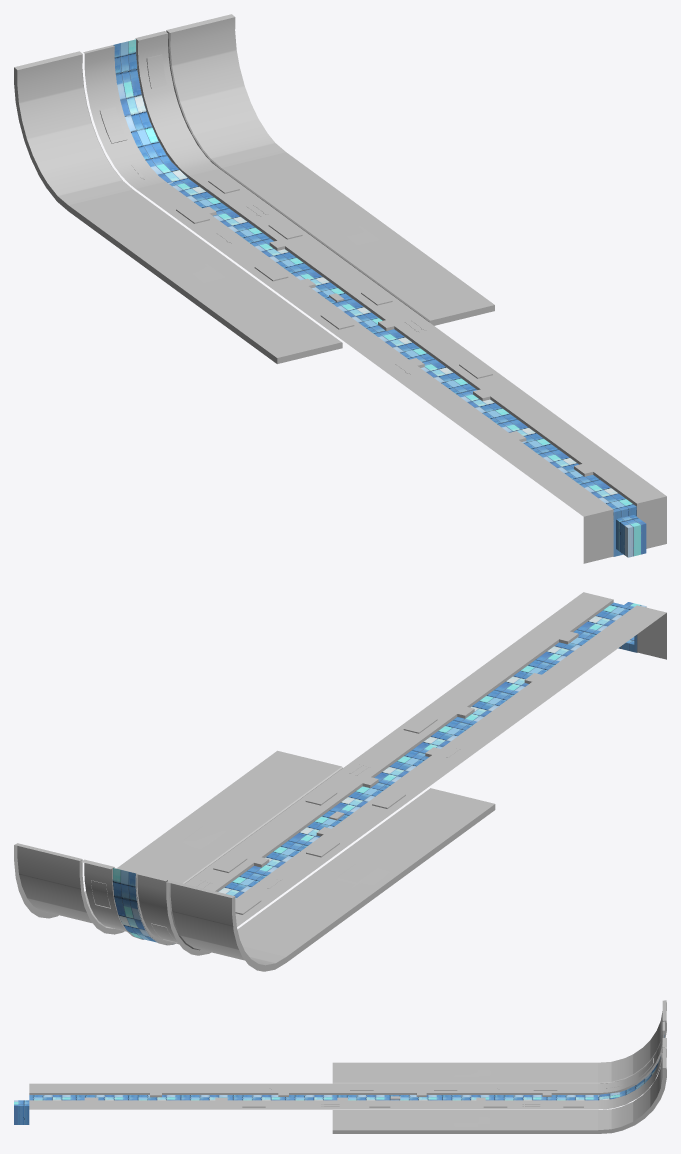
The model's file is Ramp_Building_New.fbx.
3 renders of one model, top to bottom at view 1: azimuth 30°, elevation 25°; view 2: azimuth 150°, elevation 25°; view 3: azimuth 270°, elevation 25°, orthographic. The views are drawn at different scales.
Parts seen in each view (by area): view 1: building, CurvedRoad, road; view 2: building, CurvedRoad, road; view 3: building, CurvedRoad, road.
Part boxes in pixels (<box>): building: <box>68,152,666,563</box>; CurvedRoad: <box>14,14,285,210</box>; road: <box>169,179,646,557</box>; building: <box>84,592,666,962</box>; CurvedRoad: <box>14,843,286,971</box>; road: <box>218,602,646,898</box>; building: <box>29,1062,597,1133</box>; CurvedRoad: <box>598,1000,666,1133</box>; road: <box>14,1095,597,1124</box>.
Bounding box in the file's own units: 2888 × 1852 × 11811.
